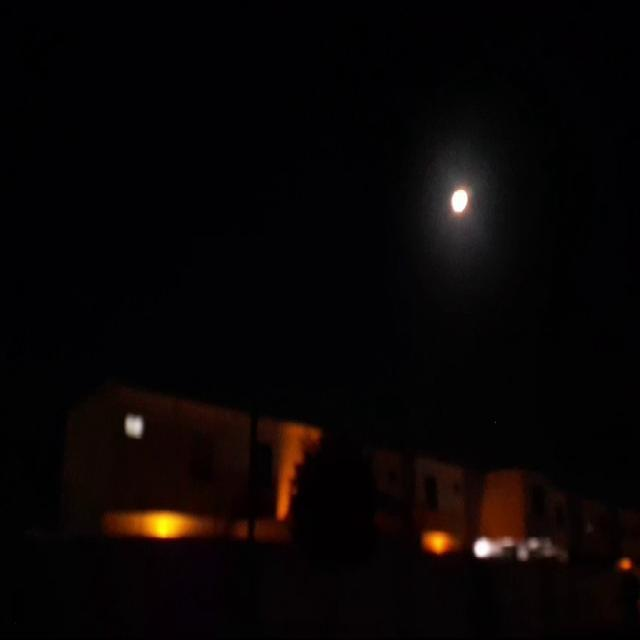moon: (446, 181, 469, 215)
